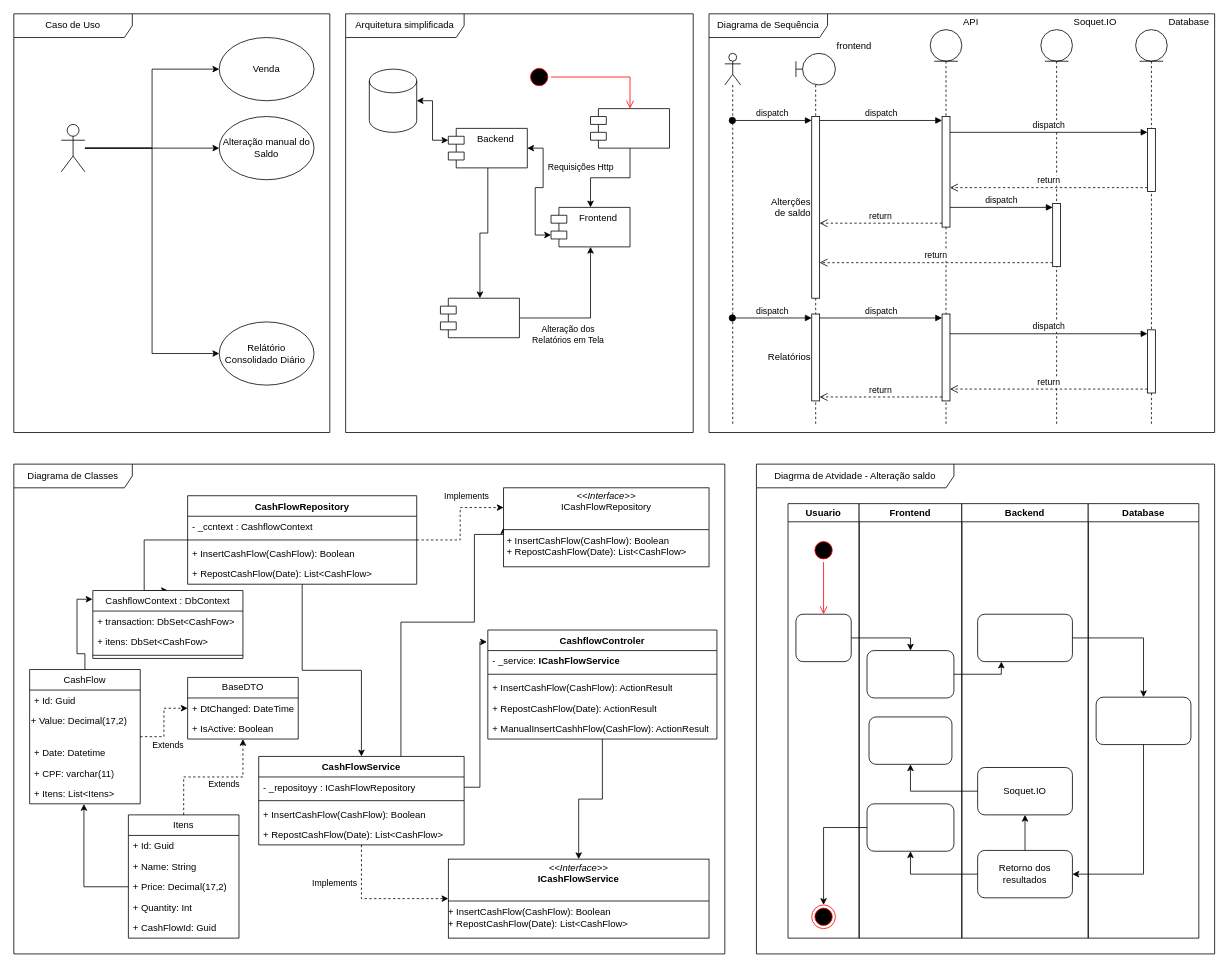
Image size: 1228x968. Some labels were removed from this diagram. The shapes that lost their labels are listed below. From the top down, each one's centre as x and y in pixels, then its label:
At point (393, 100): "SQL".
At point (72, 148): "Ator".
At point (630, 128): "Cloudflare".
At point (479, 317): "ScketIo".
At point (823, 637): "Inserir Venda".
At point (1024, 637): "Outras validações Salvamento no bando de dados".
At point (910, 674): "Validações e Envio".
At point (910, 740): "Refresh nas telas de report".
At point (1143, 720): "Persistenciaa dos dados".
At point (910, 827): "Display de sucesso".
